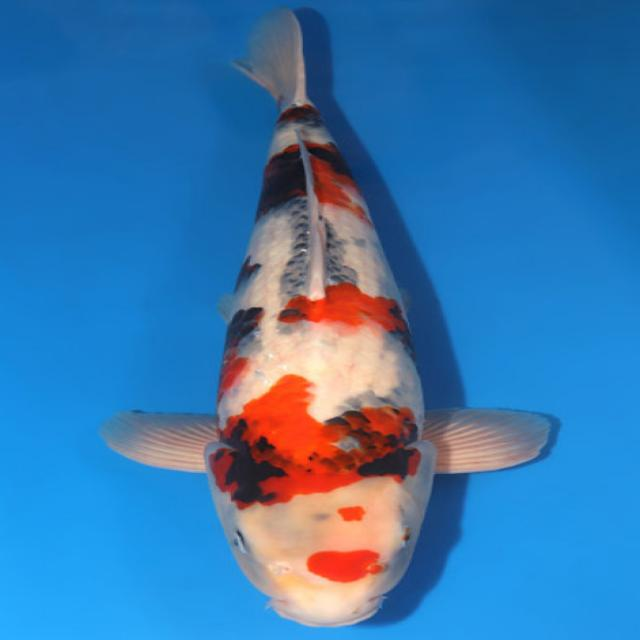Showa: (98, 5, 557, 628)
